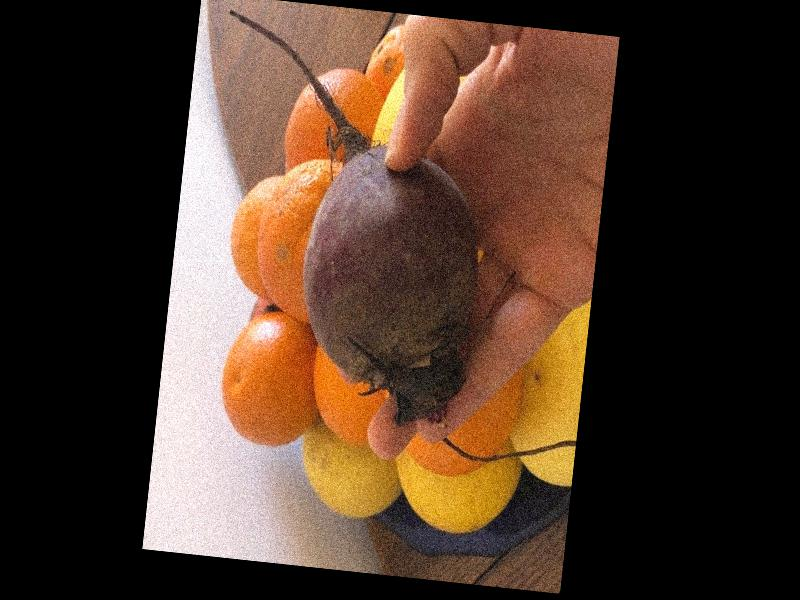Beet: (188, 10, 502, 426)
